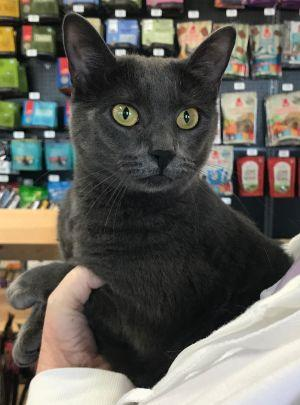rblue: (48, 4, 246, 213)
